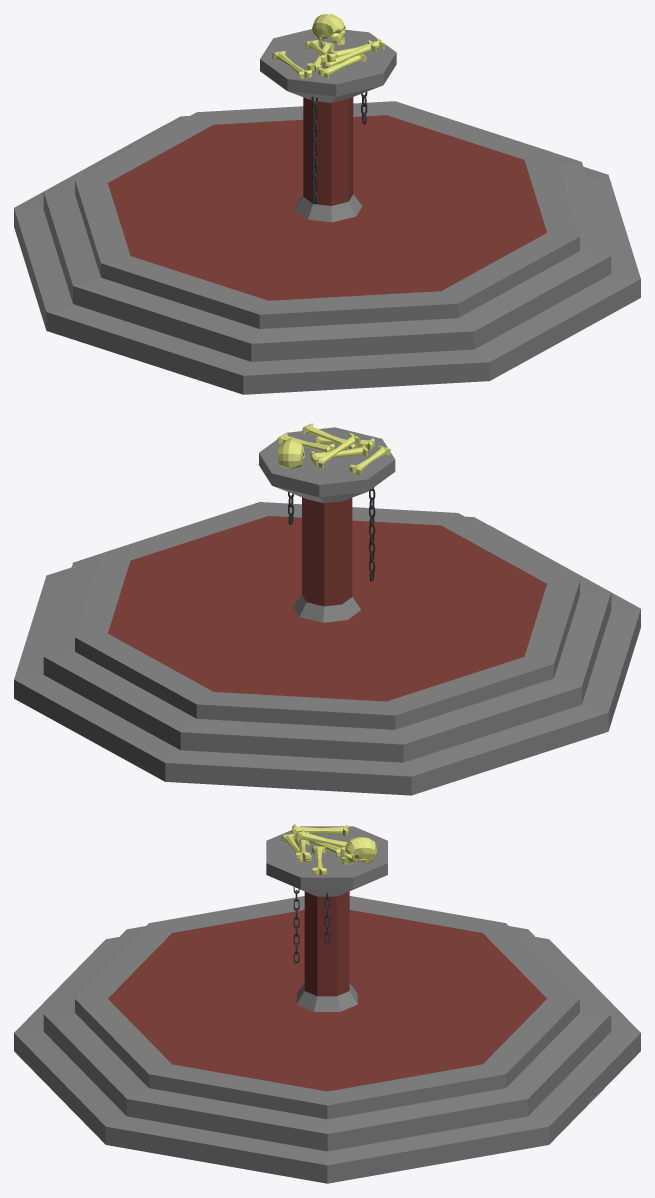
Rendered from Altar.fbx.
3 renders of one model, top to bottom at view 1: azimuth 30°, elevation 25°; view 2: azimuth 150°, elevation 25°; view 3: azimuth 270°, elevation 25°, orthographic. The views are drawn at different scales.
Parts seen in each view (by area): view 1: Cylinder.073; view 2: Cylinder.073; view 3: Cylinder.073.
Part boxes in pixels (x1=…): Cylinder.073: x1=14, y1=14, x2=640, y2=394; Cylinder.073: x1=14, y1=423, x2=640, y2=795; Cylinder.073: x1=14, y1=824, x2=640, y2=1183.
Size of the model in its own units: 1728 by 676 by 1728.
